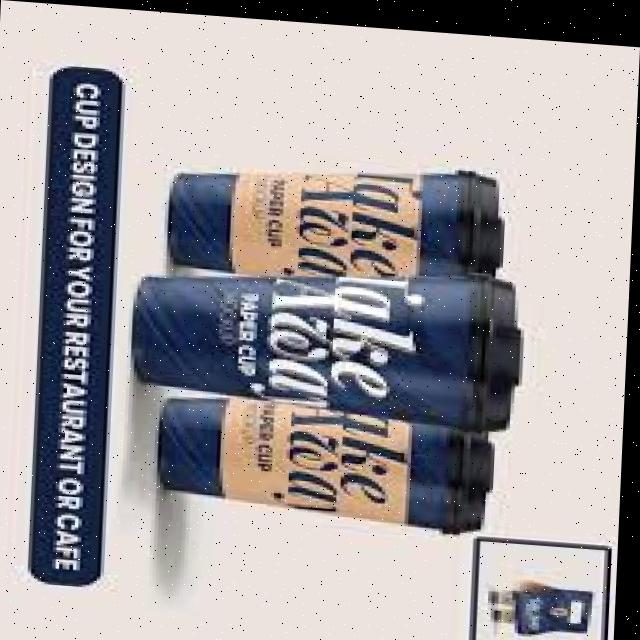cup: (134, 268, 500, 421), (163, 395, 497, 526), (170, 163, 465, 272)
